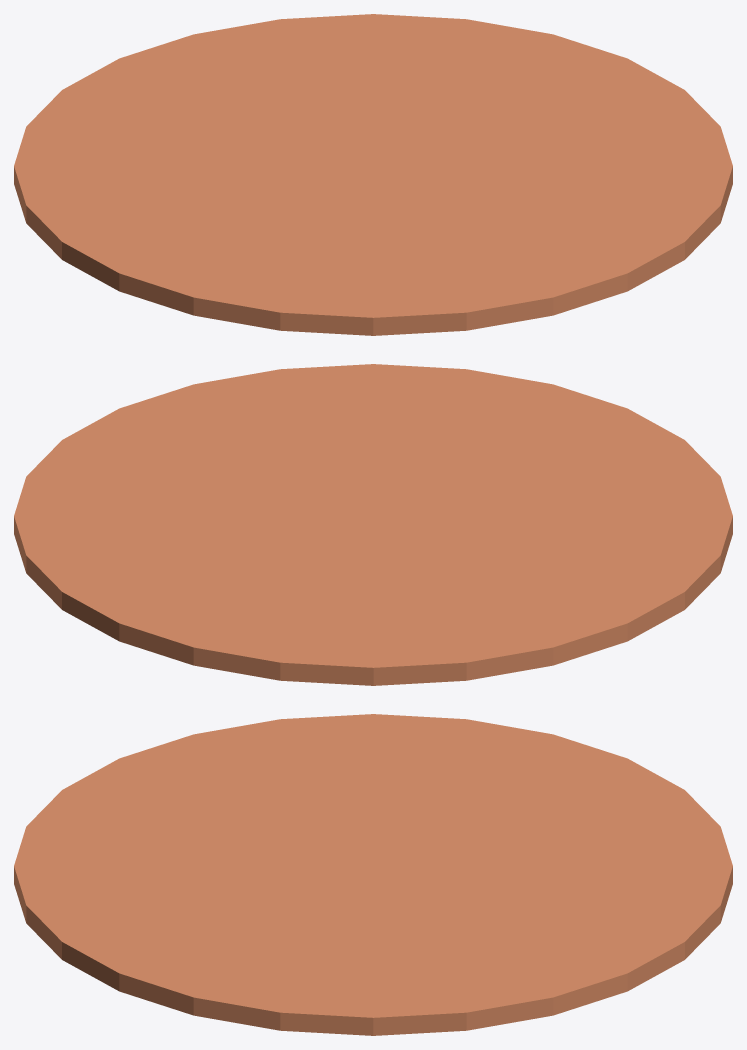
File: flour.fbx
3 renders of one model, top to bottom at view 1: azimuth 30°, elevation 25°; view 2: azimuth 150°, elevation 25°; view 3: azimuth 270°, elevation 25°, orthographic.
Parts seen in each view (by area): view 1: Circle.129; view 2: Circle.129; view 3: Circle.129.
Boxes of the visible parts, x1=… form: Circle.129: x1=14, y1=14, x2=732, y2=335; Circle.129: x1=14, y1=364, x2=732, y2=685; Circle.129: x1=14, y1=714, x2=732, y2=1035.
Size of the model in its own units: 1559 by 43.32 by 1559.
